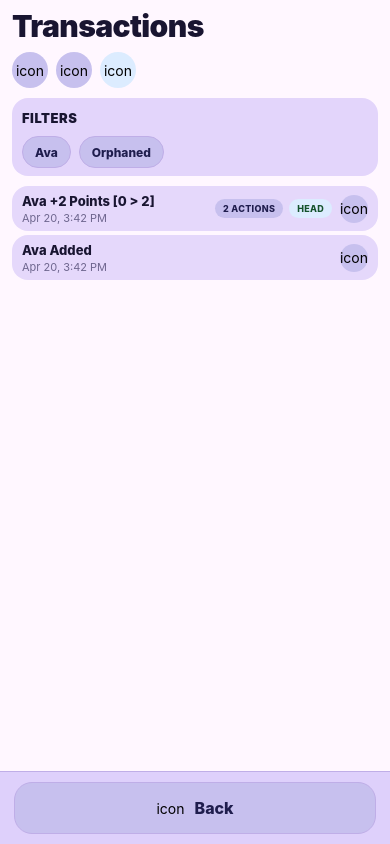
Test: TransactionsScreen › groups adjacent point actions for the same child into one tile
This screenshot has width=390, height=844.
Expected: the text with test id "transaction-summary-0" reads "Ava +2 Points [0 > 2]", [22,193,155,209]
Expected: the text "2 Actions" is shown, [223,203,275,214]
Step 1. Click the button with aria-label "Expand Ava +2 Points [0 > 2]" → x=88, y=201, box [22,192,368,225]
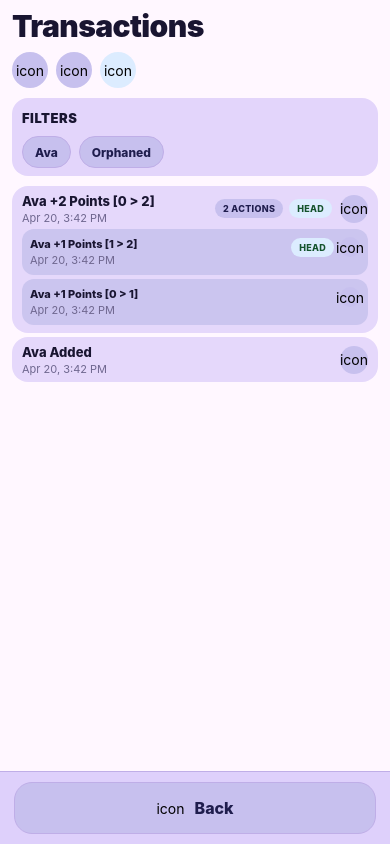
Expected: the text "Restore To This Point" is not shown
Now the text "Ava +1 Points [1 > 2]" is shown, box [30,237,138,251]
Now the text "Ava +1 Points [0 > 1]" is shown, box [30,287,138,301]
Step 2. Click the button with aria-label "Expand Ava +1 Points [0 > 1]" → x=84, y=294, box [30,287,360,317]
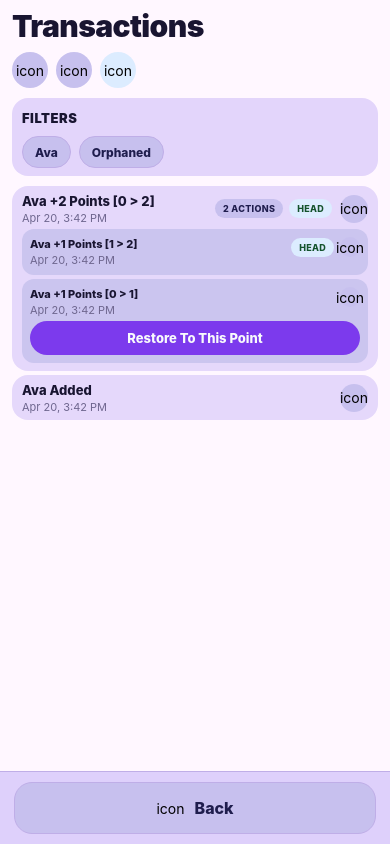
Now the text "Restore To This Point" is shown, box [127,330,263,346]
